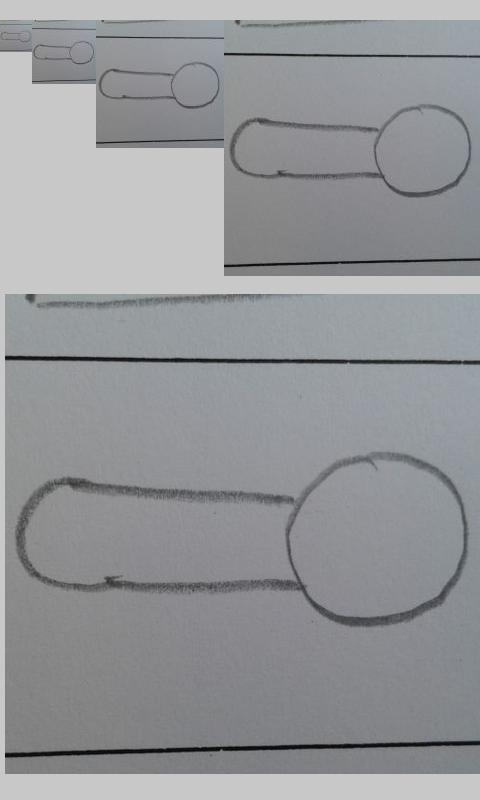switch: (15, 445, 470, 627), (229, 104, 472, 197), (99, 61, 222, 109), (33, 40, 95, 64), (1, 30, 32, 43)
